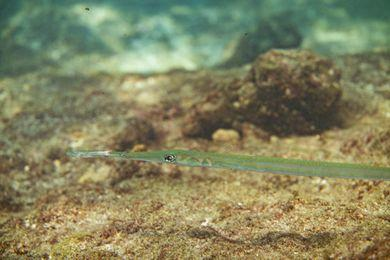Fistularia commersonii: (63, 133, 372, 208)
